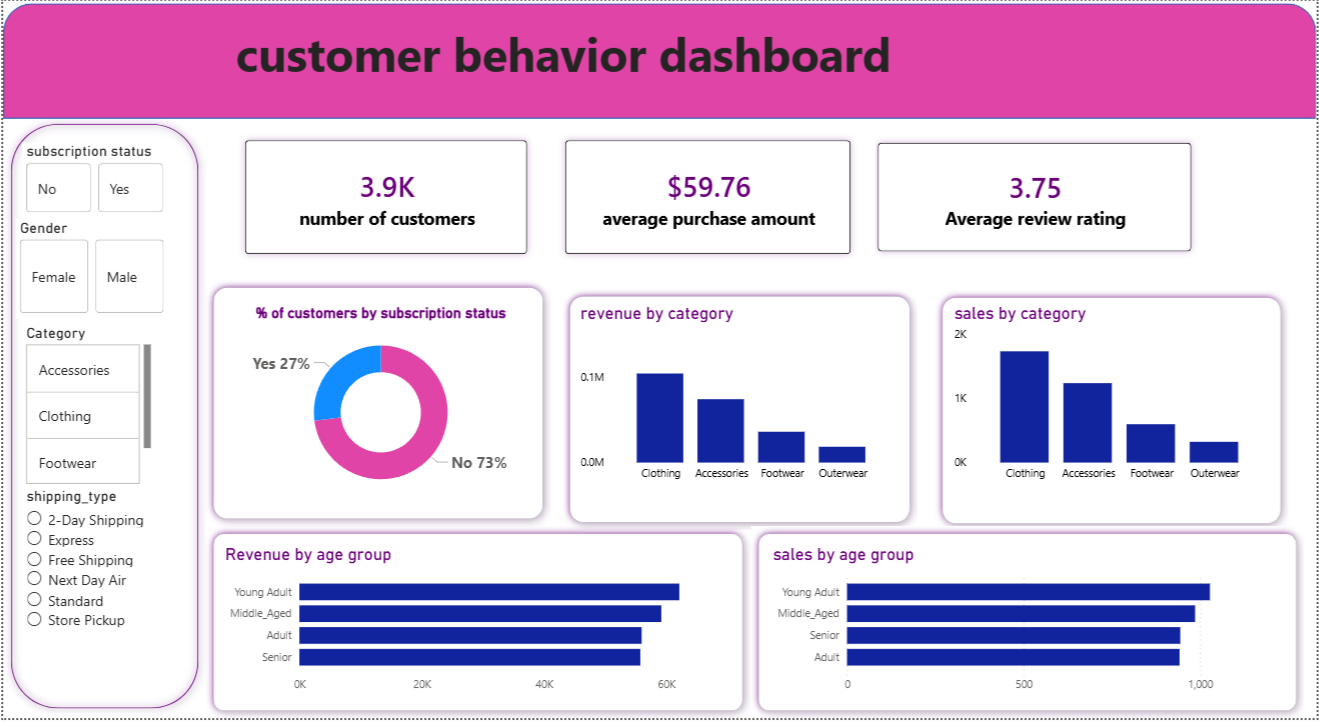

What the dashboard file says about the page in this screenshot:
{"tool":"powerbi","page":{"name":"Page 1","canvas":[1500,820],"ordinal":0},"visuals":[{"type":"cardVisual","fields":{"Data":["customer_behavior customer.number of customers"]},"box":[248,132,378,186],"z":0},{"type":"cardVisual","fields":{"Data":["customer_behavior customer.Average review rating"]},"box":[972,134,414,180],"z":1000},{"type":"cardVisual","fields":{"Data":["customer_behavior customer.average purchase amount"]},"box":[614,132,382,186],"z":2000},{"type":"shape","box":[0,2,1500,132],"z":3000},{"type":"textbox","box":[232,18,788,100],"z":4000},{"type":"shape","box":[232,318,394,282],"z":5000},{"type":"donutChart","title":"% of customers by subscription status","fields":{"Category":["customer_behavior customer.subscription_status"],"Y":["CountNonNull(customer_behavior customer.customer_id)"]},"box":[248,346,366,230],"z":6000},{"type":"shape","box":[638,328,406,276],"z":7000},{"type":"shape","box":[1064,330,404,276],"z":8000},{"type":"clusteredColumnChart","title":"revenue by category","fields":{"Y":["Sum(customer_behavior customer.purchase_amount)"],"Category":["customer_behavior customer.category"]},"box":[654,346,366,212],"z":8001},{"type":"clusteredColumnChart","title":"sales by category","fields":{"Y":["CountNonNull(customer_behavior customer.customer_id)"],"Category":["customer_behavior customer.category"]},"box":[1082,346,366,212],"z":8002},{"type":"shape","box":[0,132,232,686],"z":8003},{"type":"advancedSlicerVisual","title":"subscription status","fields":{"Values":["customer_behavior customer.subscription_status"]},"box":[22,162,166,86],"z":8004},{"type":"advancedSlicerVisual","title":"Gender","fields":{"Values":["customer_behavior customer.gender"]},"box":[14,248,174,114],"z":8005},{"type":"advancedSlicerVisual","title":"Category","fields":{"Values":["customer_behavior customer.category"]},"box":[22,368,152,190],"z":8006},{"type":"listSlicer","fields":{"Values":["customer_behavior customer.shipping_type"]},"box":[22,556,152,220],"z":8007},{"type":"shape","box":[232,600,622,220],"z":8009},{"type":"shape","box":[854,600,632,220],"z":8010},{"type":"clusteredBarChart","title":"sales by age group","fields":{"Category":["customer_behavior customer.age_group"],"Y":["CountNonNull(customer_behavior customer.customer_id)"]},"box":[874,622,594,178],"z":8011},{"type":"clusteredBarChart","title":"Revenue by age group","fields":{"Category":["customer_behavior customer.age_group"],"Y":["Sum(customer_behavior customer.purchase_amount)"]},"box":[248,622,594,178],"z":8012}]}

Visuals, with their boxes in screenshot pixels (x1, y1, x2, y2), scaled from the page's 1500x820 canvas onto the 1319x723 screenshot:
cardVisual - customer_behavior customer.number of customers: (218,116,550,280)
cardVisual - customer_behavior customer.Average review rating: (855,118,1219,277)
cardVisual - customer_behavior customer.average purchase amount: (540,116,876,280)
shape: (0,2,1318,118)
textbox: (204,16,897,104)
shape: (204,280,550,529)
"% of customers by subscription status" donutChart: (218,305,540,508)
shape: (561,289,918,533)
shape: (936,291,1291,534)
"revenue by category" clusteredColumnChart: (575,305,897,492)
"sales by category" clusteredColumnChart: (951,305,1273,492)
shape: (0,116,204,721)
"subscription status" advancedSlicerVisual: (19,143,165,219)
"Gender" advancedSlicerVisual: (12,219,165,319)
"Category" advancedSlicerVisual: (19,324,153,492)
listSlicer - customer_behavior customer.shipping_type: (19,490,153,684)
shape: (204,529,751,722)
shape: (751,529,1307,722)
"sales by age group" clusteredBarChart: (769,548,1291,705)
"Revenue by age group" clusteredBarChart: (218,548,740,705)
